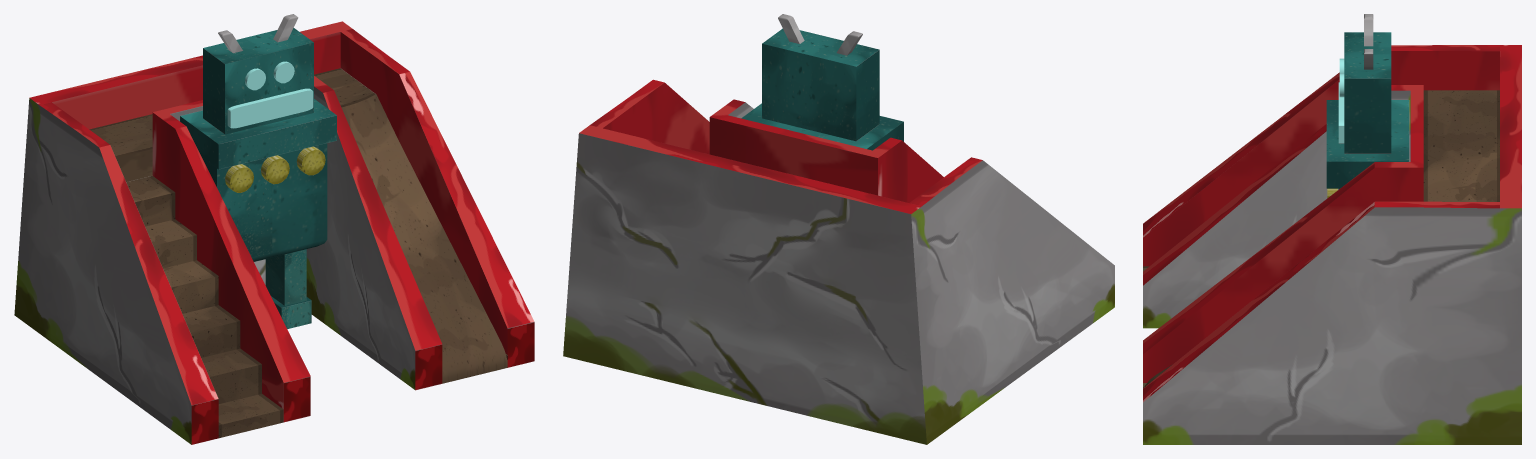
Rendered from Slide.fbx.
The picture shows the model from 3 angles, left to right: view 1: azimuth 30°, elevation 25°; view 2: azimuth 150°, elevation 25°; view 3: azimuth 270°, elevation 25°; orthographic projection. The views are drawn at different scales.
Visible parts, largest first — view 1: Cube.008; view 2: Cube.008; view 3: Cube.008.
Boxes of the visible parts, left/top/right/bottom form: Cube.008: left=14, top=14, right=534, bottom=444; Cube.008: left=563, top=14, right=1114, bottom=444; Cube.008: left=1143, top=14, right=1521, bottom=444.
Size of the model in its own units: 554 by 466 by 495.
